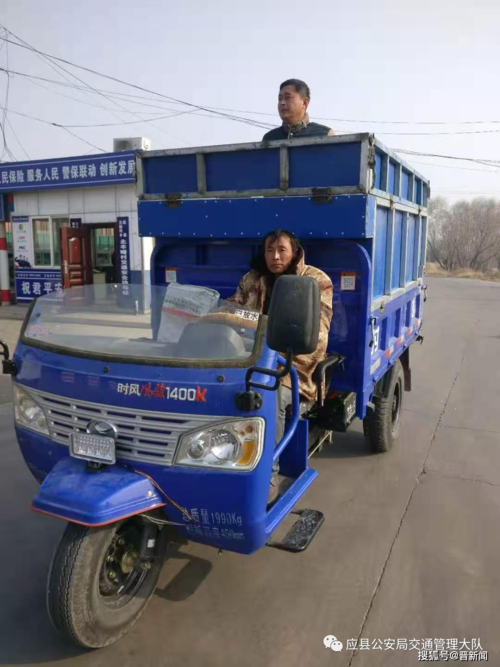driver: (217, 228, 373, 527)
overloading: (30, 50, 447, 624)
passenger: (247, 71, 360, 210)
